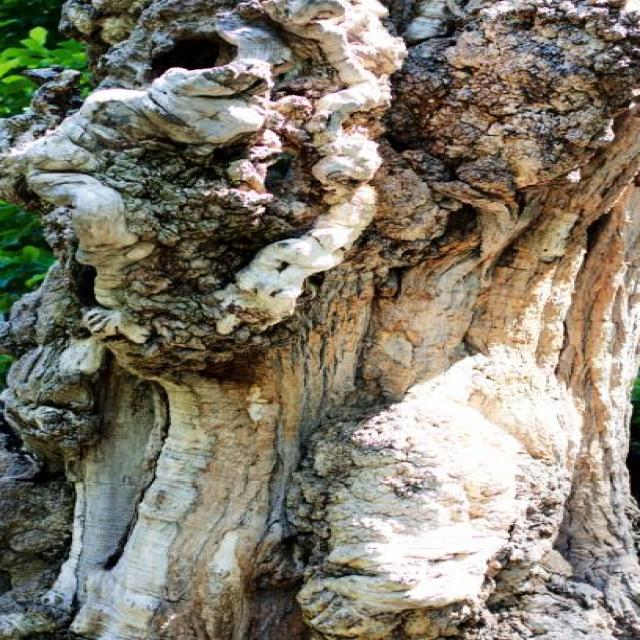Sedimentary: (8, 1, 637, 640)
